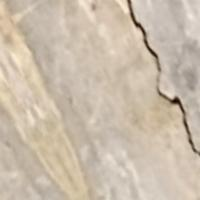crack: (125, 0, 199, 155)
